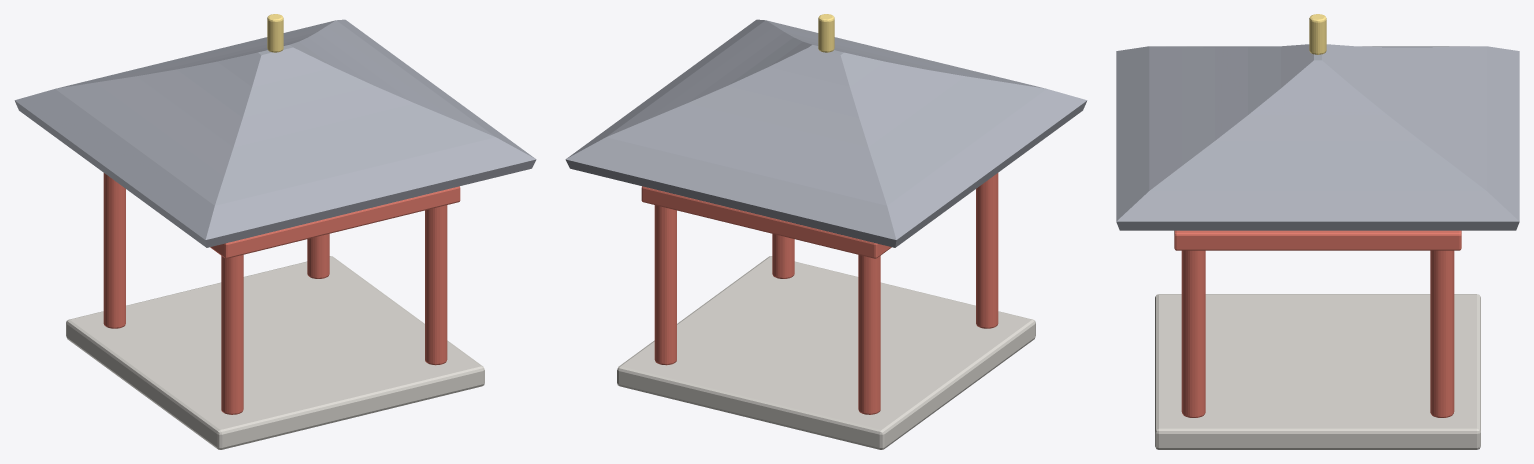
The model's file is lm_china_pavilion.glb.
3 views of the same model, side by side, from view 1: azimuth 30°, elevation 25°; view 2: azimuth 150°, elevation 25°; view 3: azimuth 270°, elevation 25° (orthographic). The views are drawn at different scales.
Visible parts, largest first — view 1: lm_china_pavilion; view 2: lm_china_pavilion; view 3: lm_china_pavilion.
Part boxes in pixels (bbox=[...]): lm_china_pavilion: bbox=[14, 14, 536, 449]; lm_china_pavilion: bbox=[565, 14, 1087, 449]; lm_china_pavilion: bbox=[1116, 14, 1519, 449].
Size of the model in its own units: 5.2 by 5.2 by 5.2.
